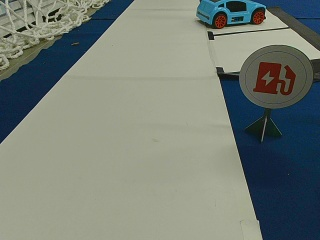battery: (239, 45, 313, 108)
car: (198, 2, 267, 27)
